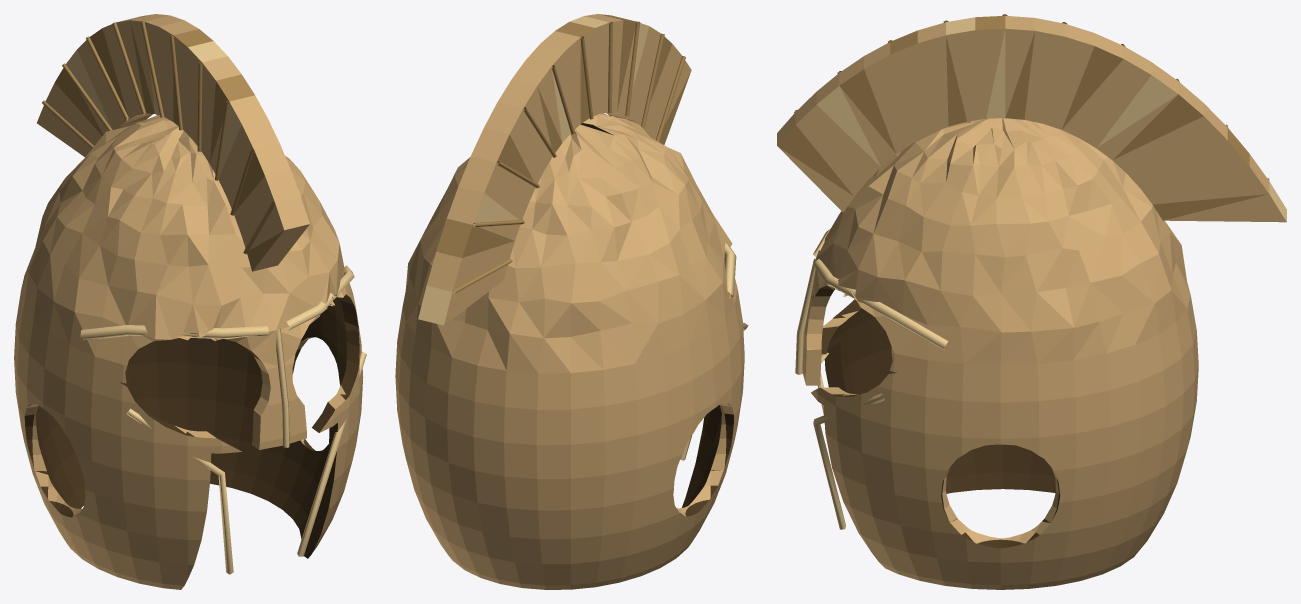
The model's file is open.glb.
3 renders of one model, left to right at view 1: azimuth 30°, elevation 25°; view 2: azimuth 150°, elevation 25°; view 3: azimuth 270°, elevation 25°, orthographic. The views are drawn at different scales.
Visible parts, largest first — view 1: Hollow helmet shell.005, Radial fan crest.004, Sculpted brow.010, Cheek ridge.011, Cheek ridge.010, Nasal spine.005, Sculpted brow.011; view 2: Hollow helmet shell.005, Radial fan crest.004, Sculpted brow.010; view 3: Hollow helmet shell.005, Radial fan crest.004, Sculpted brow.011, Cheek ridge.011, Nasal spine.005.
Part boxes in pixels (<box>): Hollow helmet shell.005: <box>14,115,363,589</box>; Radial fan crest.004: <box>37,14,309,271</box>; Sculpted brow.010: <box>80,325,268,339</box>; Cheek ridge.011: <box>297,352,366,556</box>; Cheek ridge.010: <box>126,408,233,574</box>; Nasal spine.005: <box>276,329,289,447</box>; Sculpted brow.011: <box>285,265,354,331</box>; Hollow helmet shell.005: <box>395,113,744,589</box>; Radial fan crest.004: <box>418,14,691,325</box>; Sculpted brow.010: <box>724,243,736,298</box>; Hollow helmet shell.005: <box>802,118,1198,589</box>; Radial fan crest.004: <box>777,15,1286,222</box>; Sculpted brow.011: <box>813,259,948,349</box>; Cheek ridge.011: <box>813,393,884,529</box>; Nasal spine.005: <box>795,258,816,374</box>.
Size of the model in its own units: 1.24 by 2.03 by 1.83.
